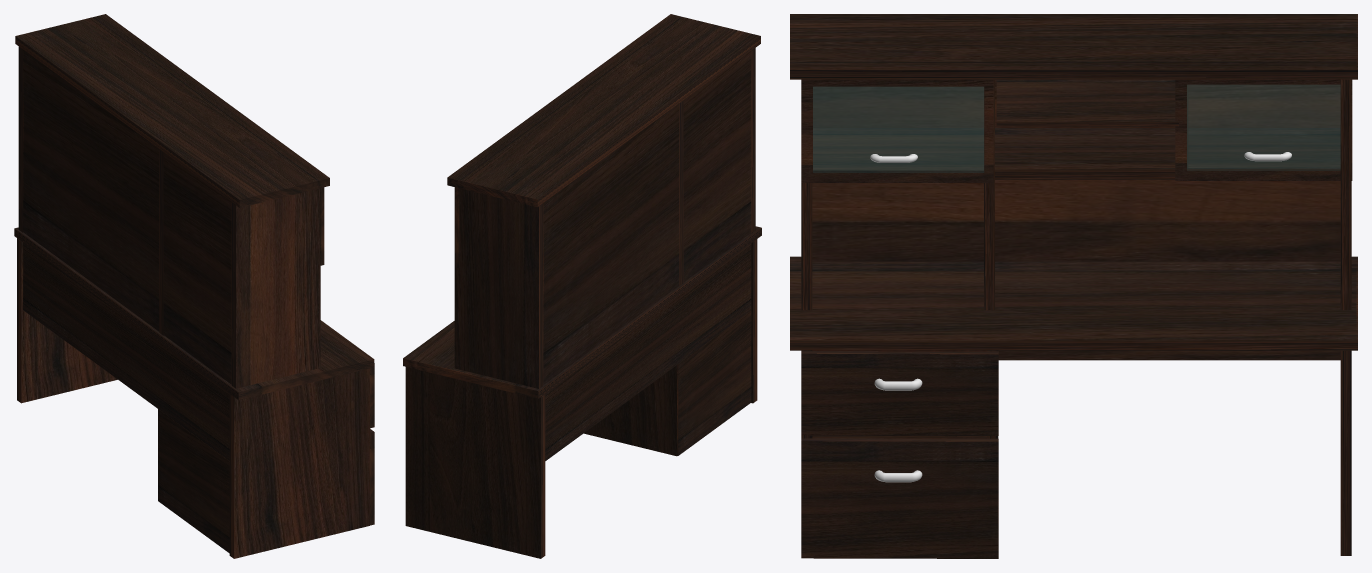
Rendered from 3D Desk - Empty.fbx.
3 views of the same model, side by side, from view 1: azimuth 30°, elevation 25°; view 2: azimuth 150°, elevation 25°; view 3: azimuth 270°, elevation 25° (orthographic). The views are drawn at different scales.
Parts seen in each view (by area): view 1: pCube54; view 2: pCube54; view 3: pCube54.
Boxes of the visible parts, x1,y1,x2,y2 form: pCube54: (14,14,374,558); pCube54: (403,14,761,558); pCube54: (790,14,1357,558).
Size of the model in its own units: 6.67 by 15.63 by 17.54.
